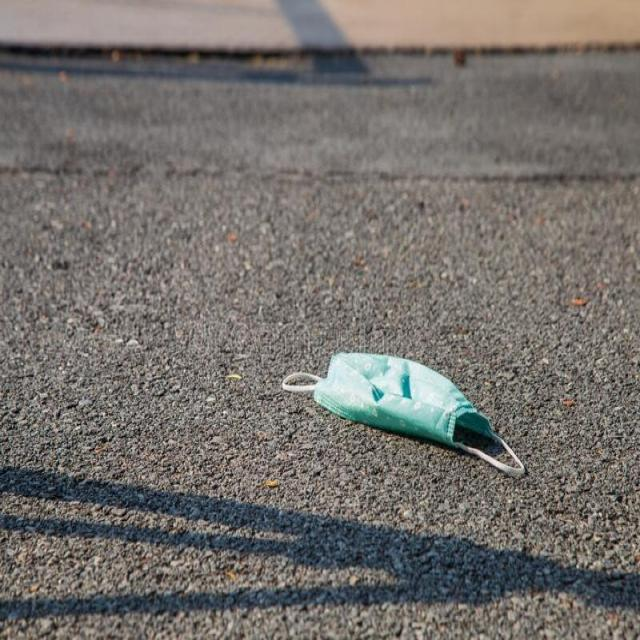face mask: (282, 347, 524, 483)
